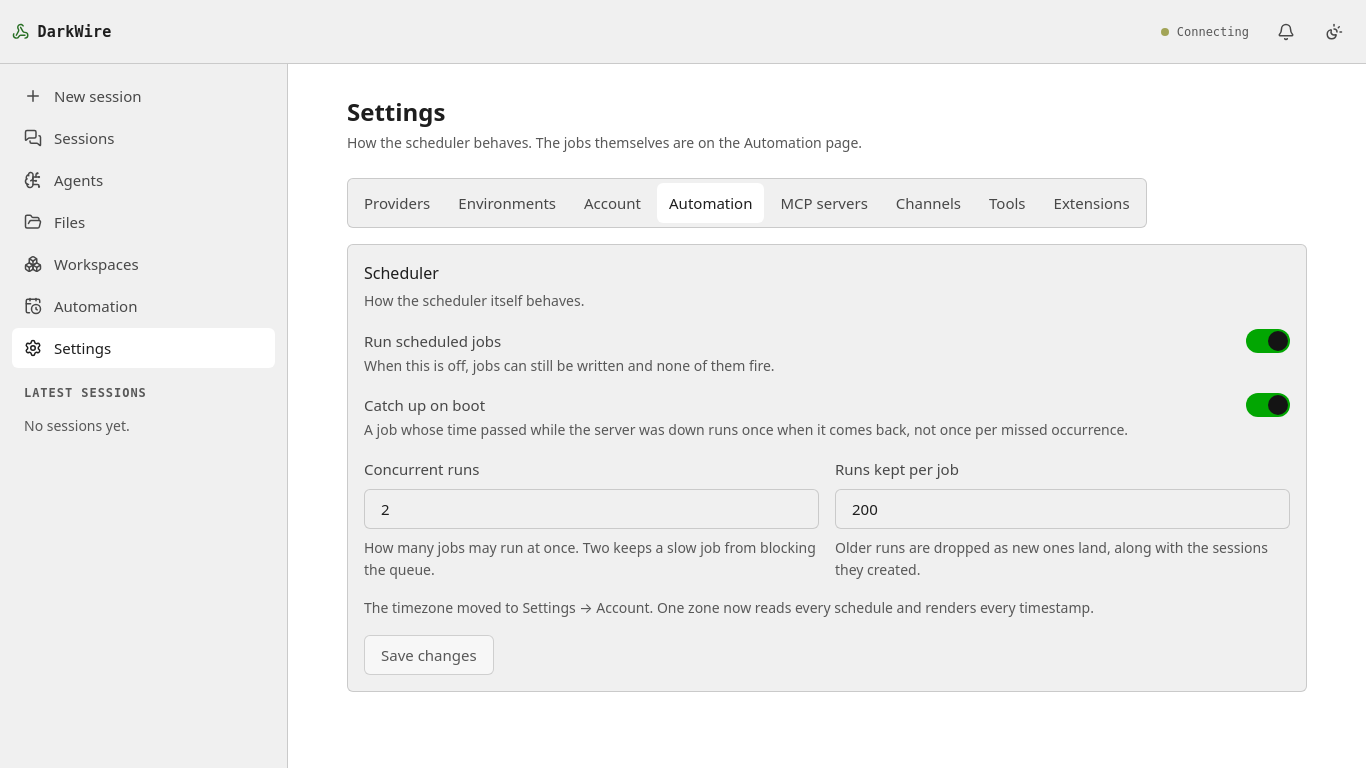
Test case: the Automation panel › reverts to what was stored
Replace the text in the field labelled "Runs kept per job" with "5": coordinates (1062, 509) [835,489,1290,529]
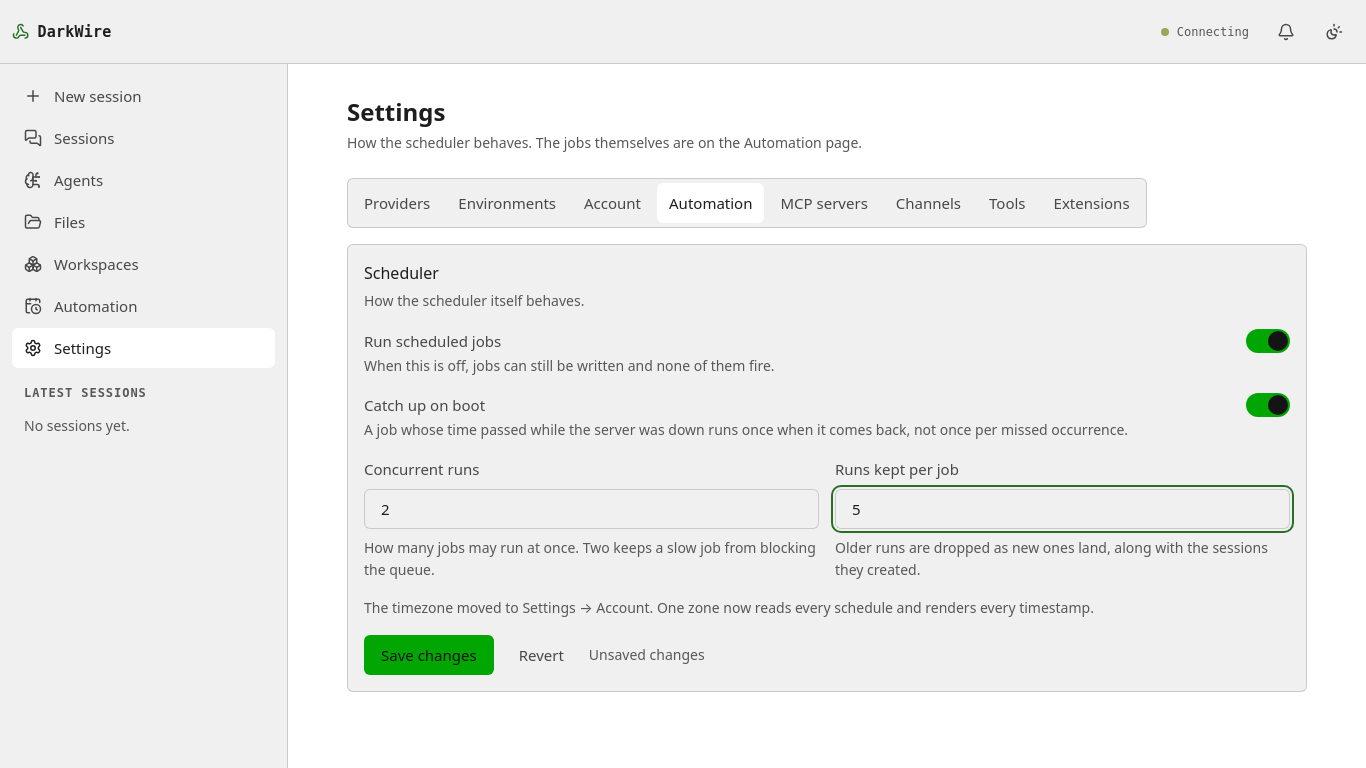
Click the button "Revert": coordinates (541, 655) [502,635,581,675]
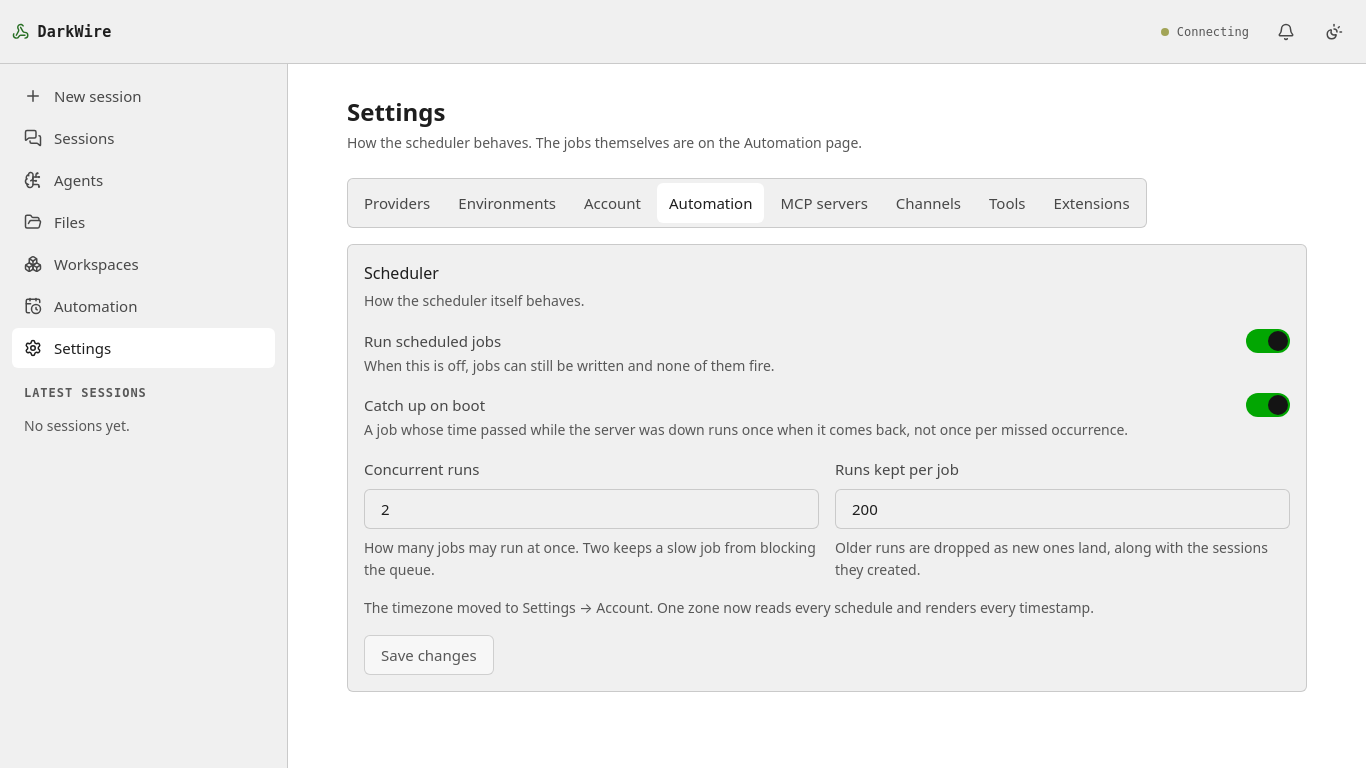
expect the field labelled "Runs kept per job" holds "200": met, box [835,489,1290,529]
